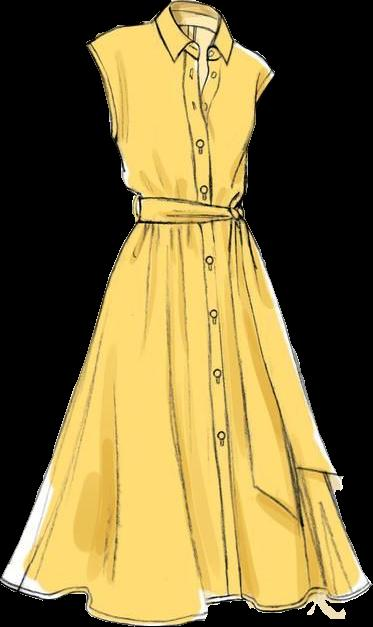Bodice: (86, 1, 274, 225)
Hemline: (0, 576, 372, 626)
Neckline: (167, 0, 225, 103), (133, 194, 243, 216)
Skirt: (0, 219, 371, 625)
Waistline: (134, 216, 246, 228)
